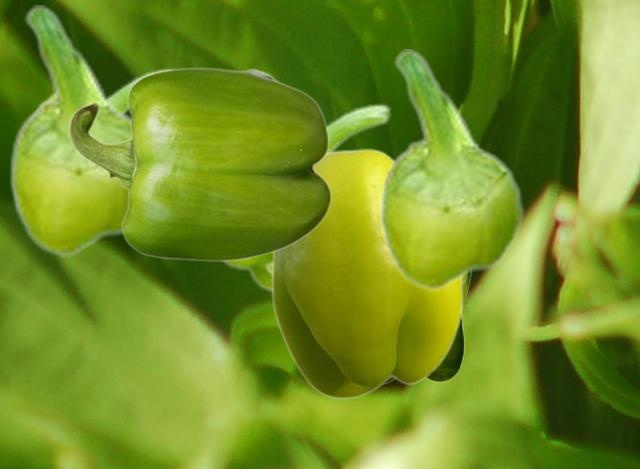bell_pepper: (68, 67, 331, 261), (270, 147, 462, 398), (378, 49, 524, 290), (220, 102, 391, 292), (8, 5, 129, 256), (12, 67, 174, 210), (385, 274, 471, 384)
